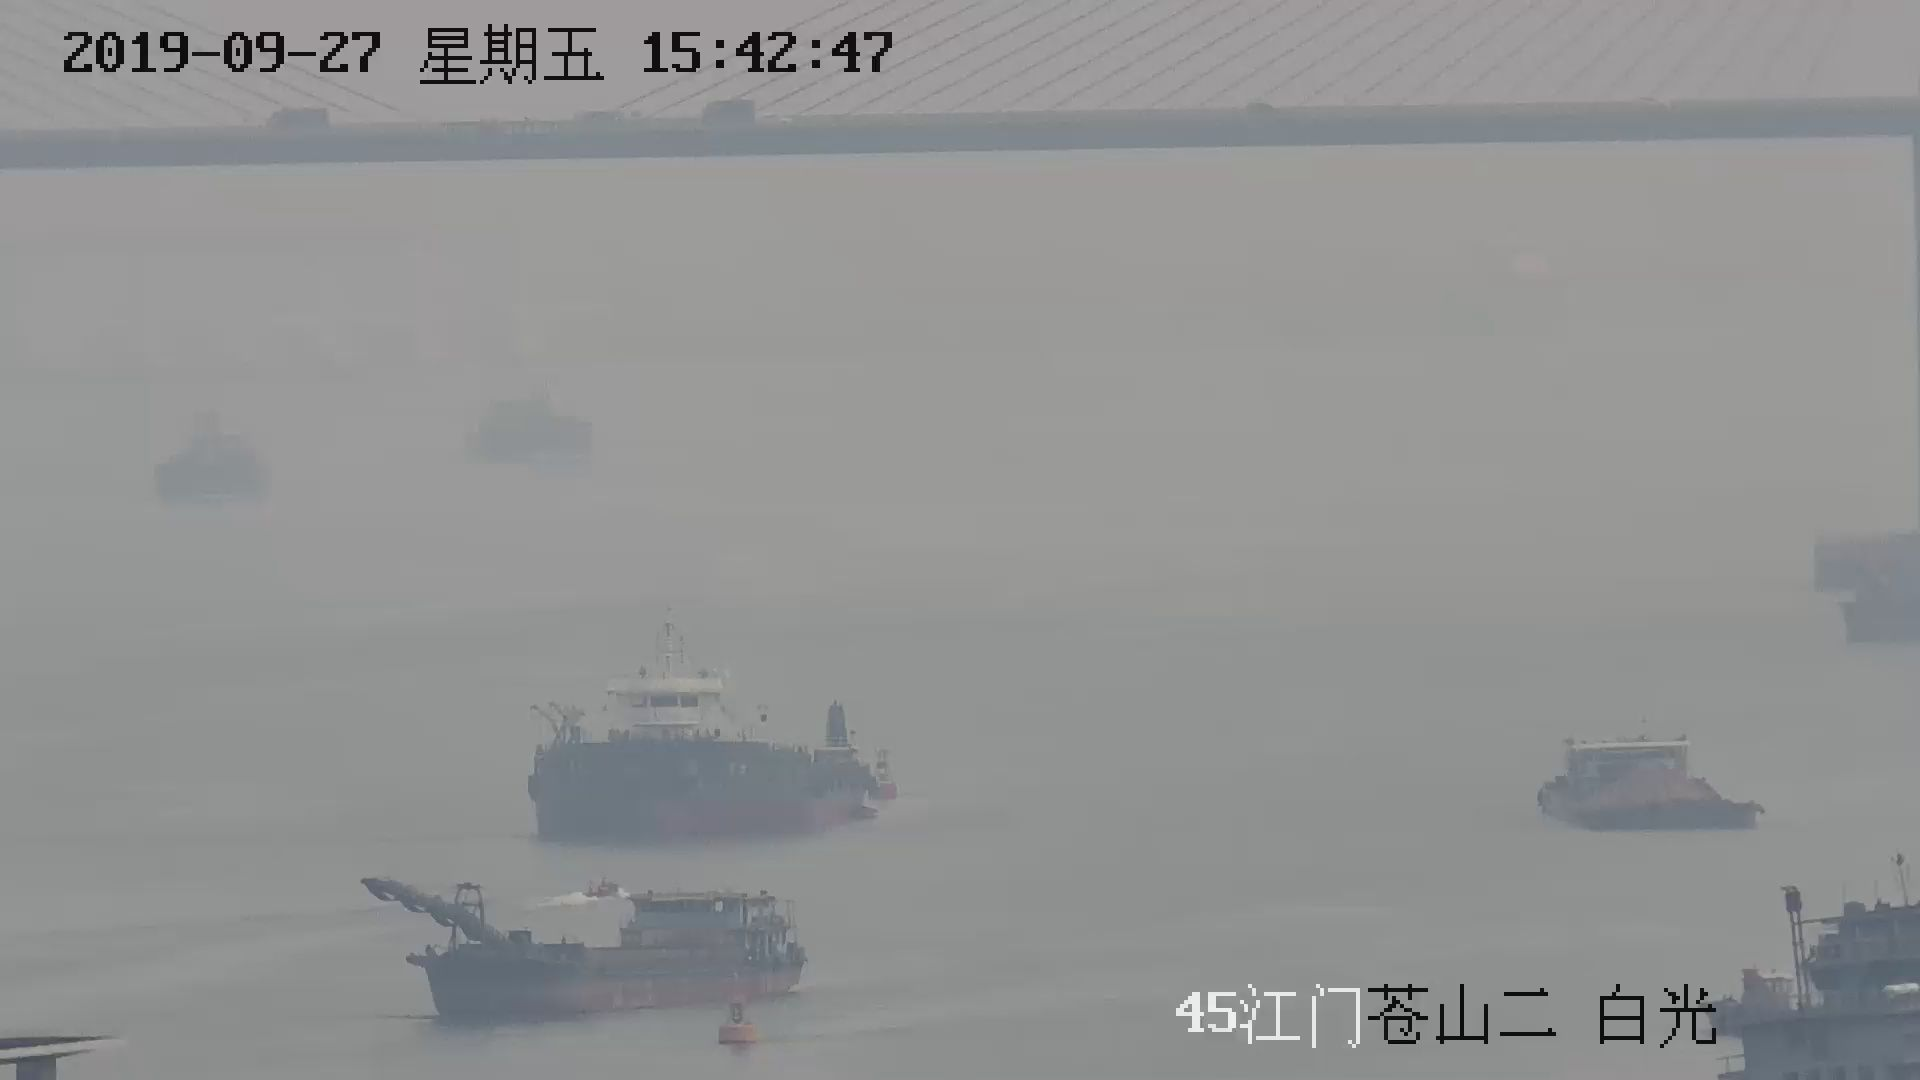ship: (527, 612, 894, 833), (372, 868, 808, 1026), (1528, 735, 1760, 836)
